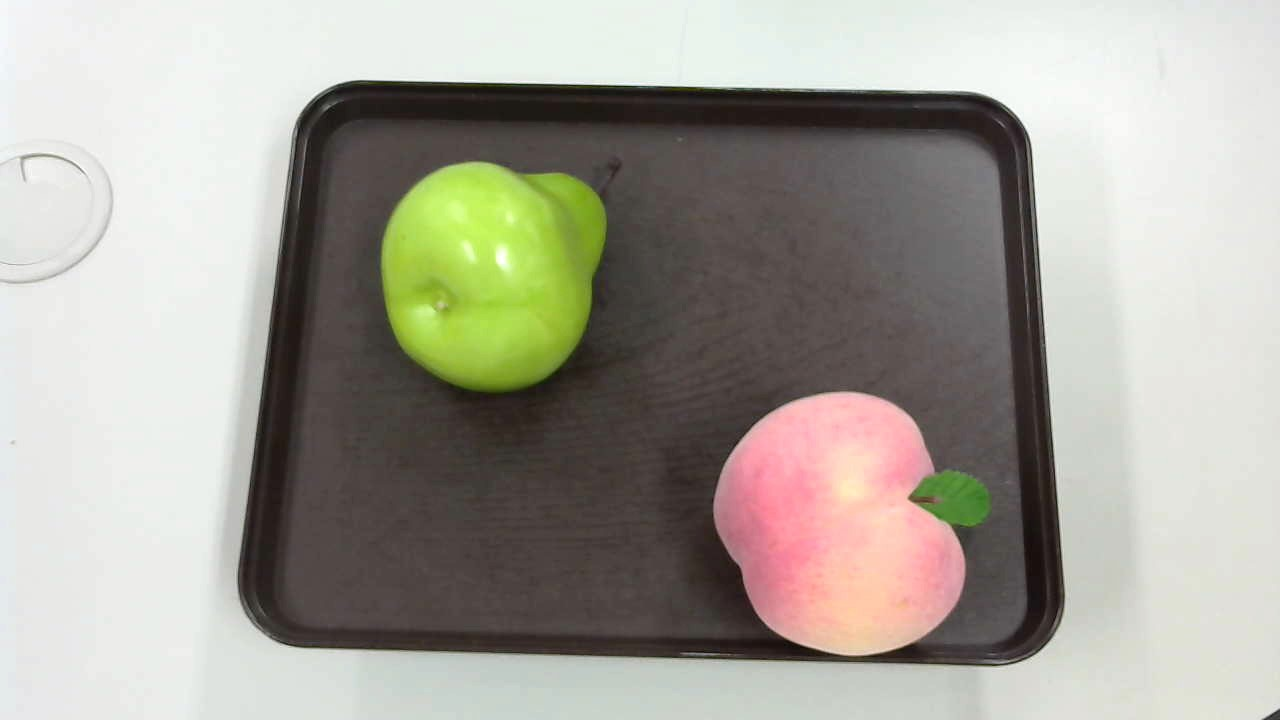green pear: (370, 146, 628, 391)
peach: (712, 393, 996, 670)
